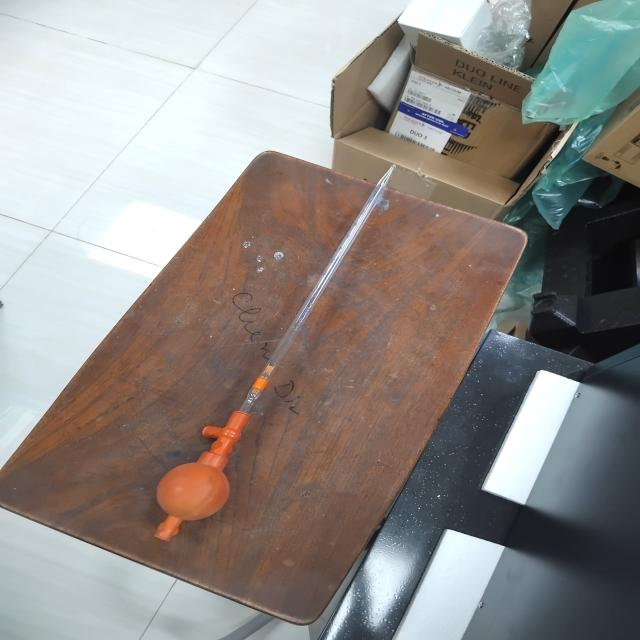Volumetric_Pipet: (83, 138, 455, 597)
